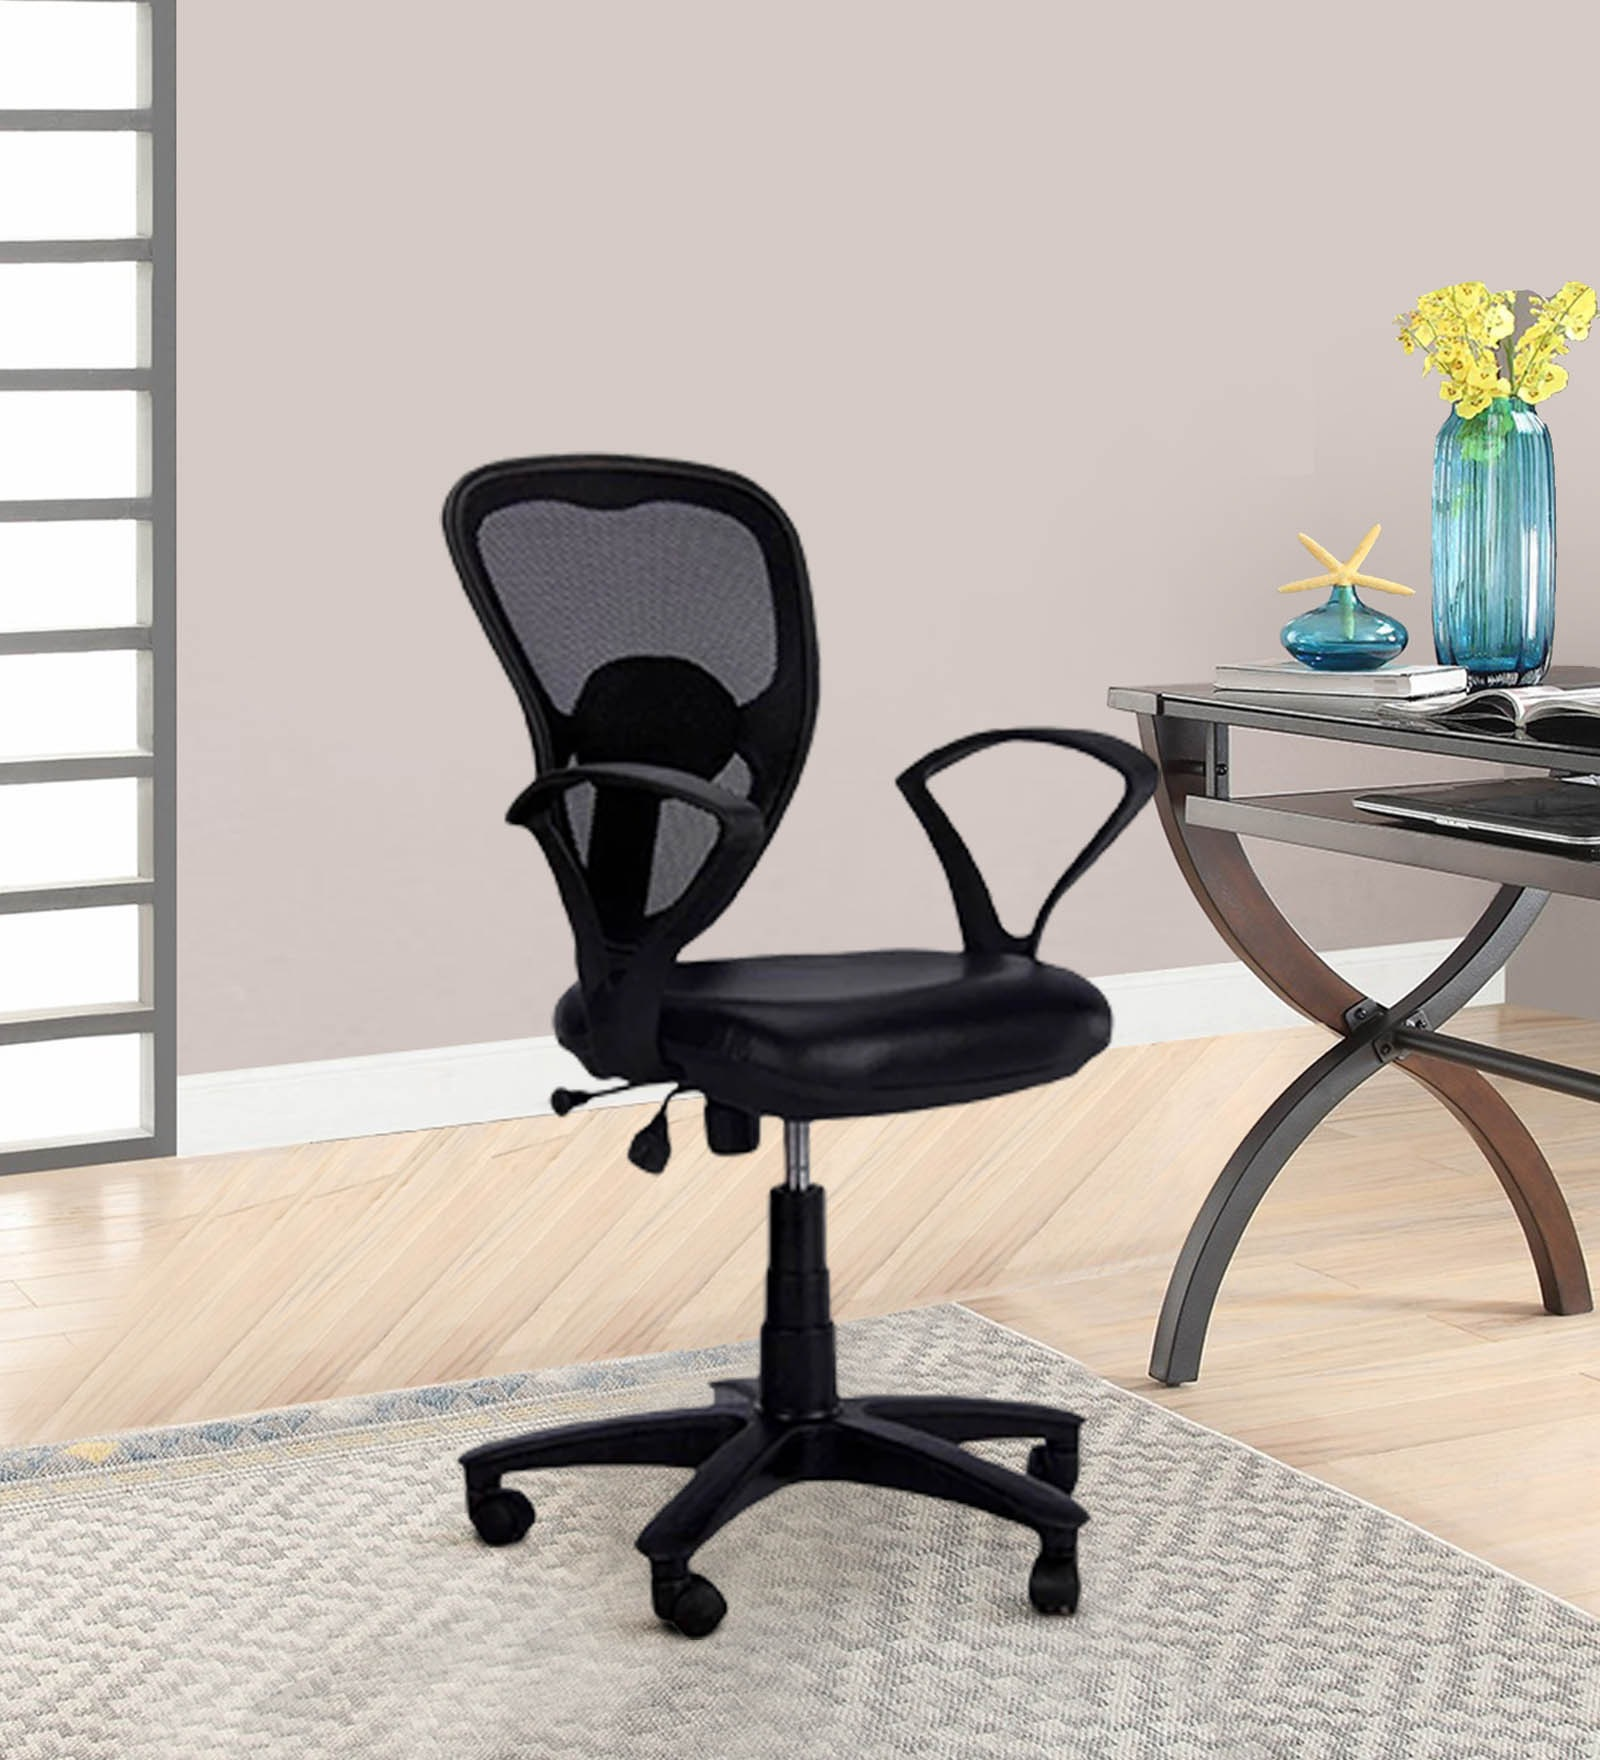Low Back Ergonomic Chair in Black Colour by Adiko Systems: (392, 431, 1185, 1656)
